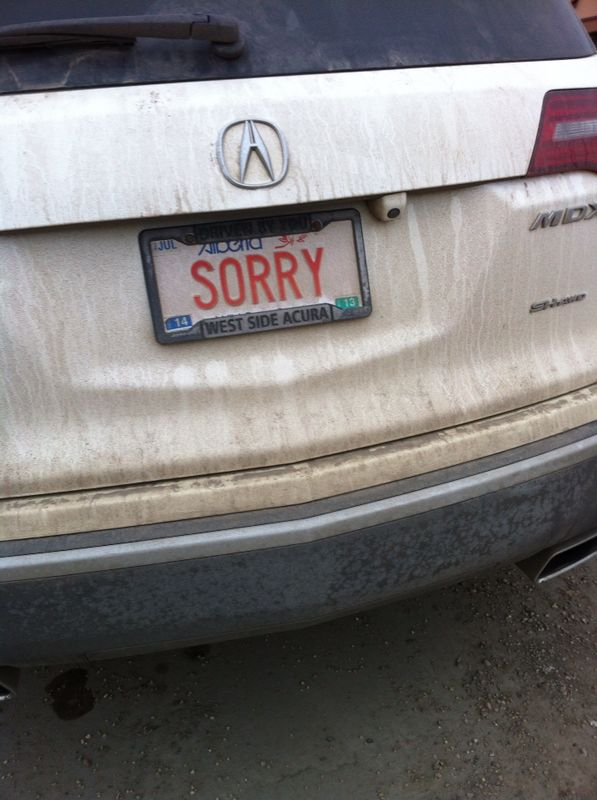license plate: (135, 223, 378, 346)
